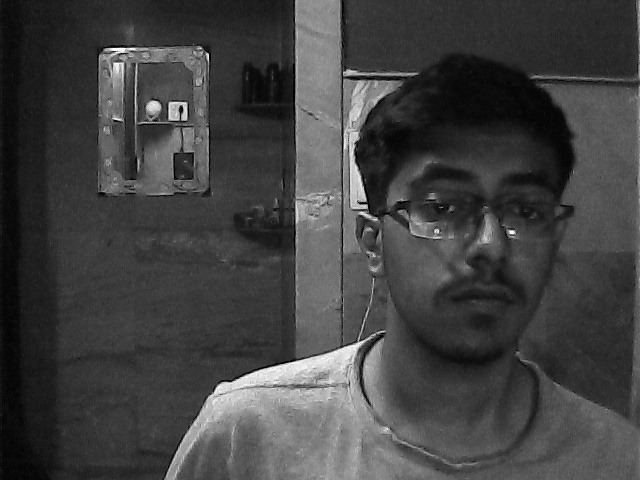nomask: (380, 111, 565, 367)
